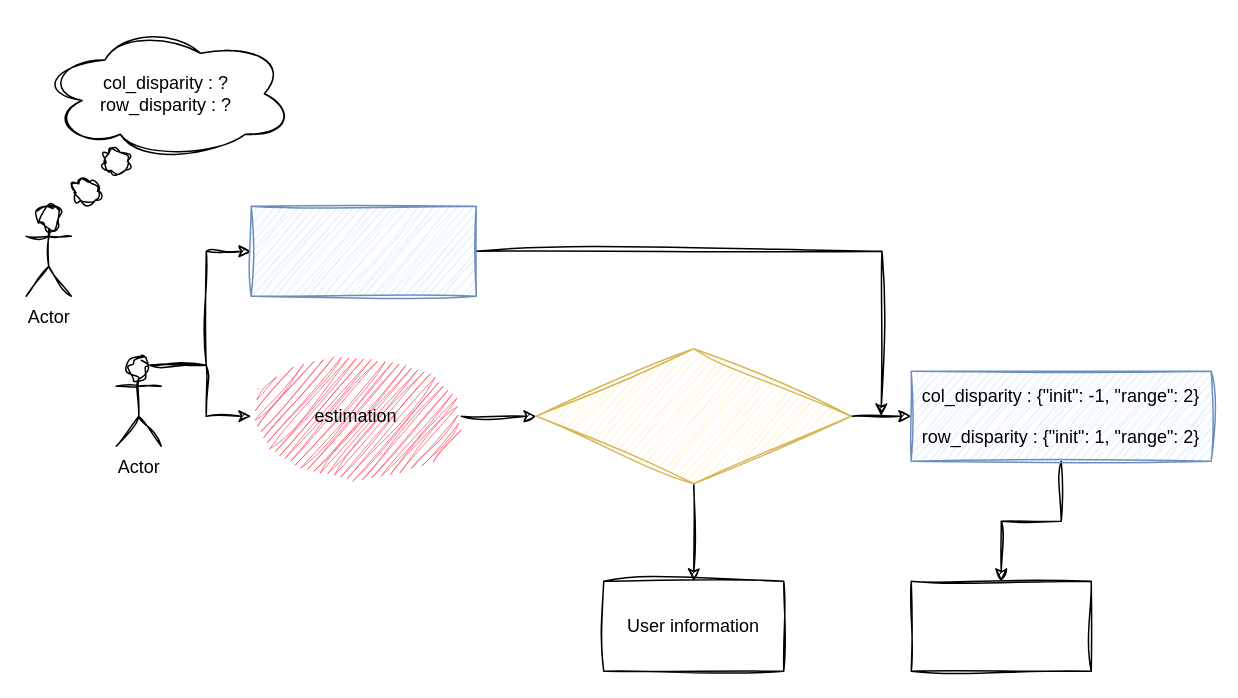
Image size: 1238x698. Some labels were removed from this diagram. Here are the shapes that lost their labels. From the top down, the centre of each, then its label:
pixel 363 250: disparity range columns : 5 disparity range rows : 5
pixel 693 415: initial disp_row : -1 initial disp_col : 1
pixel 1000 625: Pandora2D configuration file
